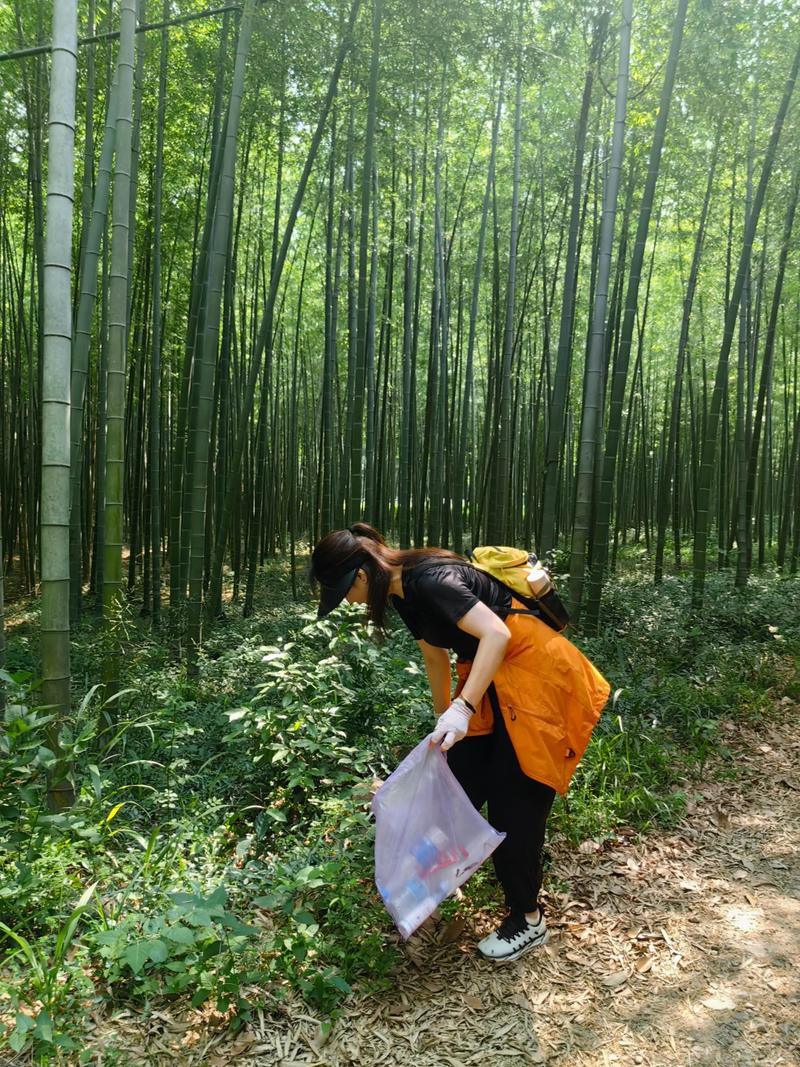bending: (282, 517, 618, 971)
